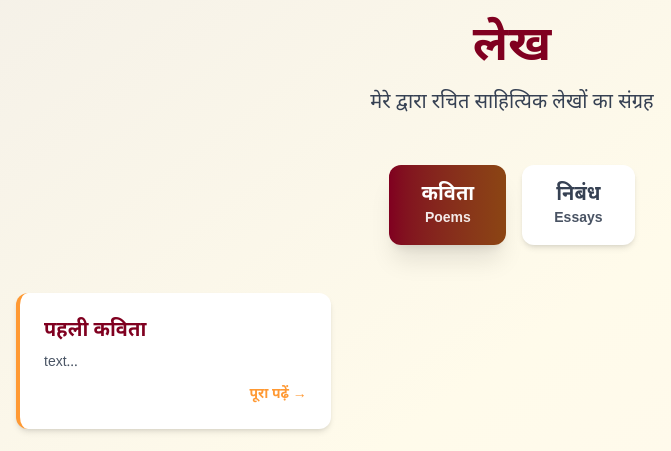
Test: Articles page › switches category when a tab is clicked
Check: the heading "पहली कविता" is shown, box [44,318,146,344]
Click the button "निबंध Essays". click: (578,205)
box: [522,165,635,245]
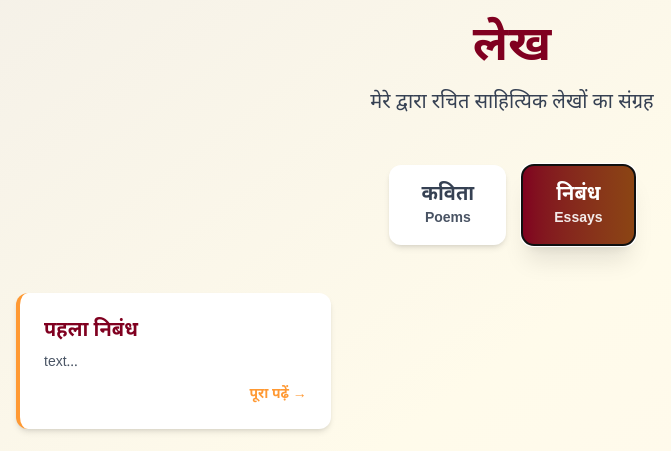
Check: the heading "पहला निबंध" is shown, box [44,318,138,344]
Check: the link "पहली कविता" is gone
